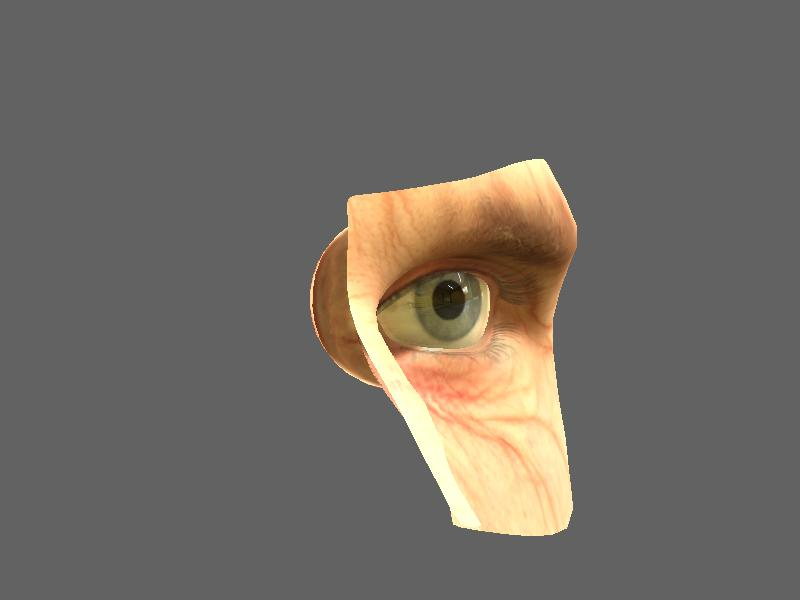iris: (413, 271, 492, 340)
